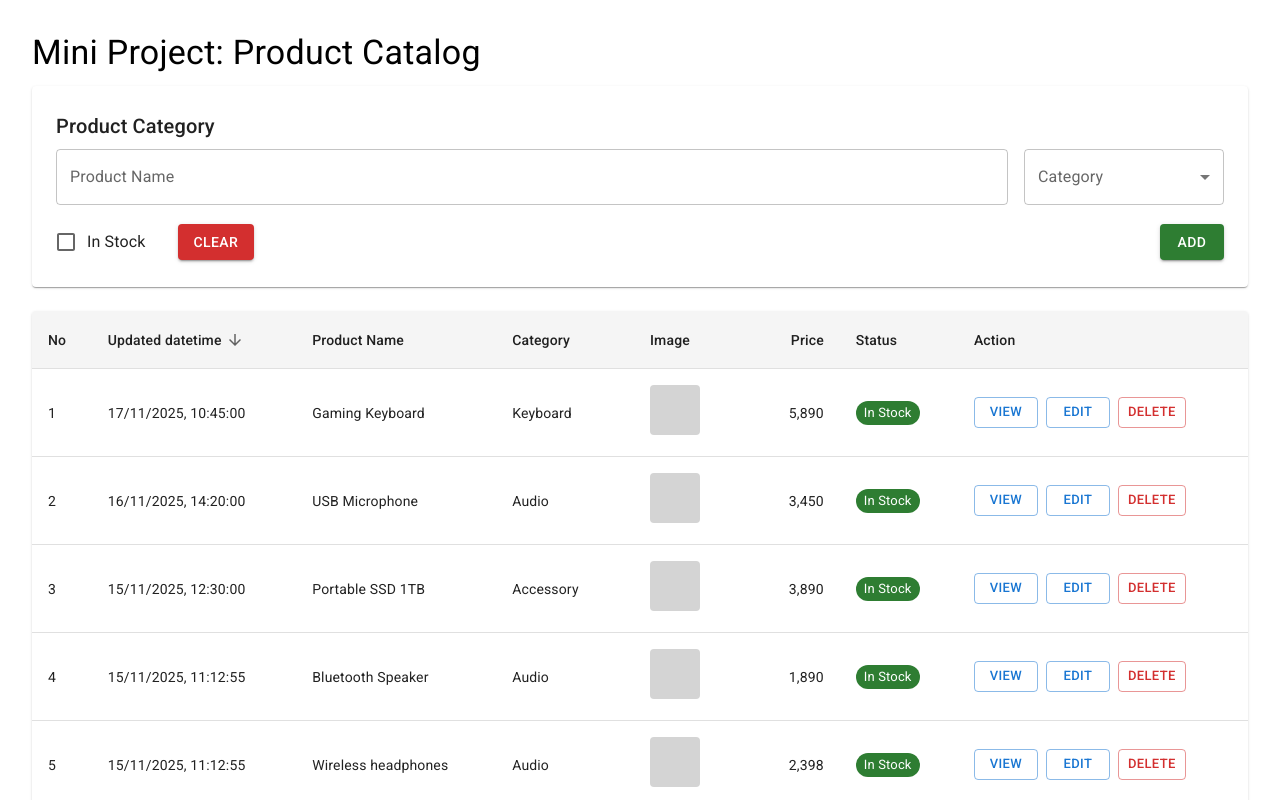
Product Categories Feature Tests › CRUD Operations › should open form dialog when Edit button is clicked
The width and height of the screenshot is (1280, 800).
What coordinates should you click on to do the following:
click the button with test id "edit-button-1"
I would click on:
 (1078, 677)
Its box is top-left (1046, 661), bottom-right (1110, 692).
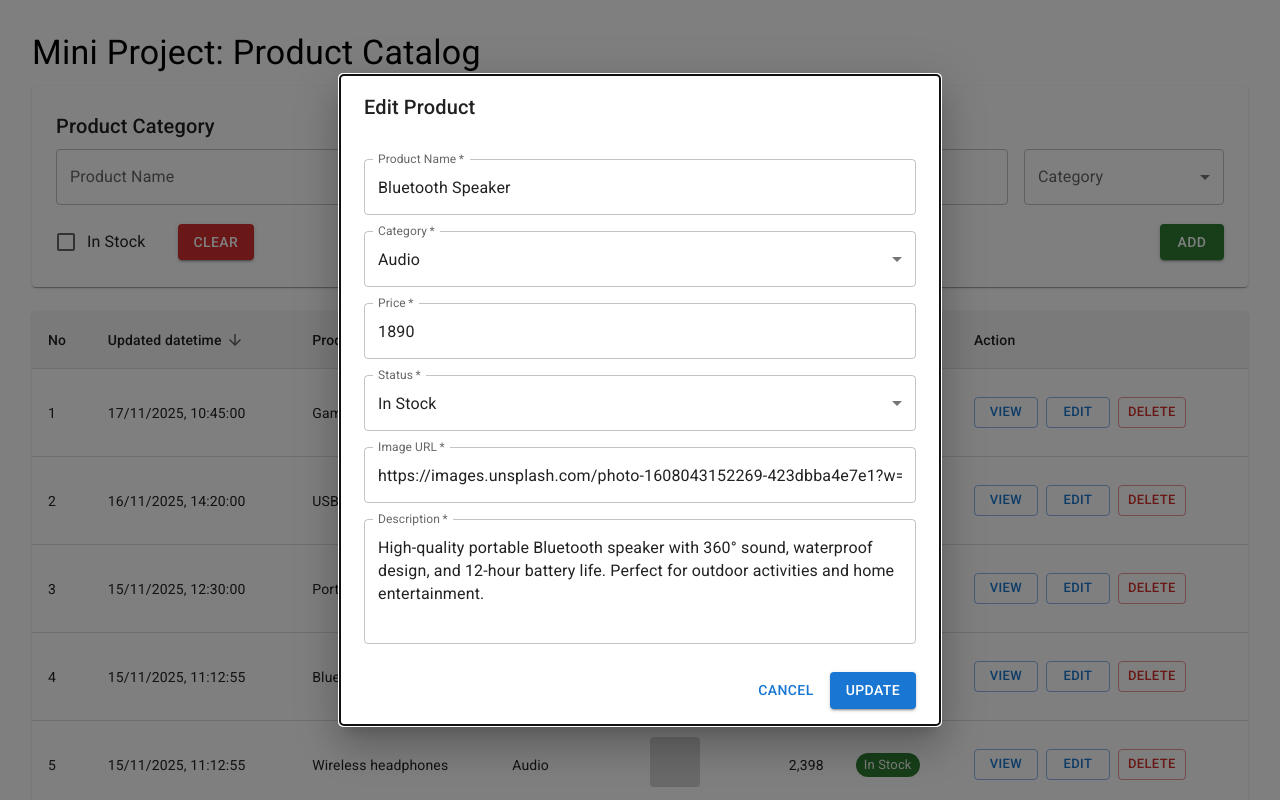
Check: the heading "Edit Product" is shown, box top-left (364, 95), bottom-right (475, 119)
